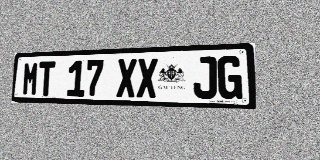1: (67, 60, 86, 97)
7: (85, 60, 104, 97)
G: (217, 56, 242, 99)
J: (193, 56, 217, 99)
M: (22, 62, 39, 96)
T: (38, 61, 55, 96)
X: (137, 58, 158, 98), (116, 59, 137, 98)
